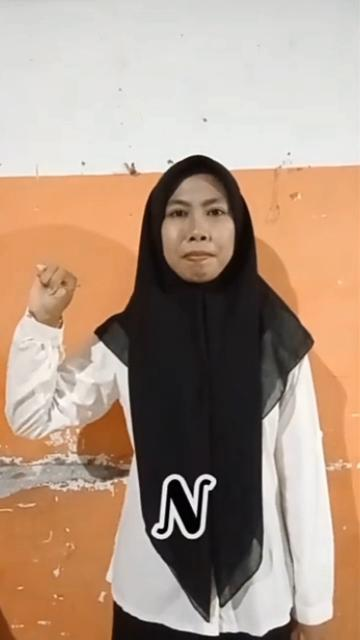N: (26, 258, 86, 326)
